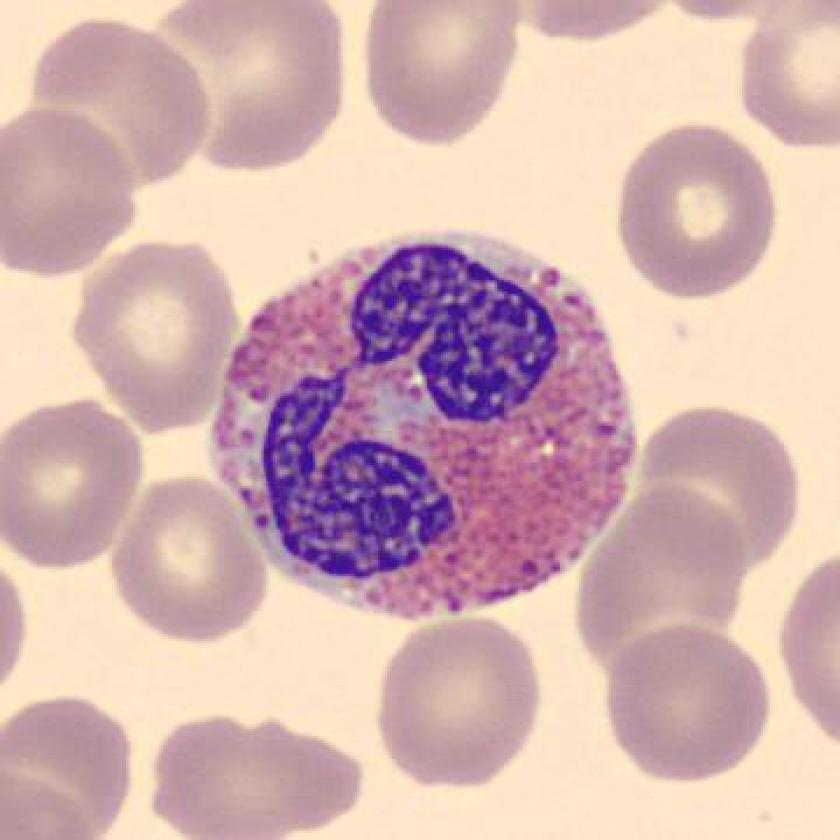eosinophil: (209, 216, 654, 626)
